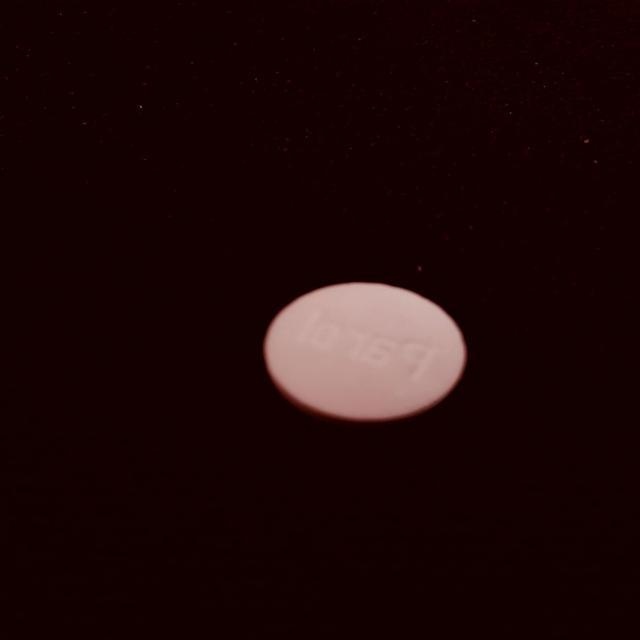pill: (254, 282, 471, 424)
